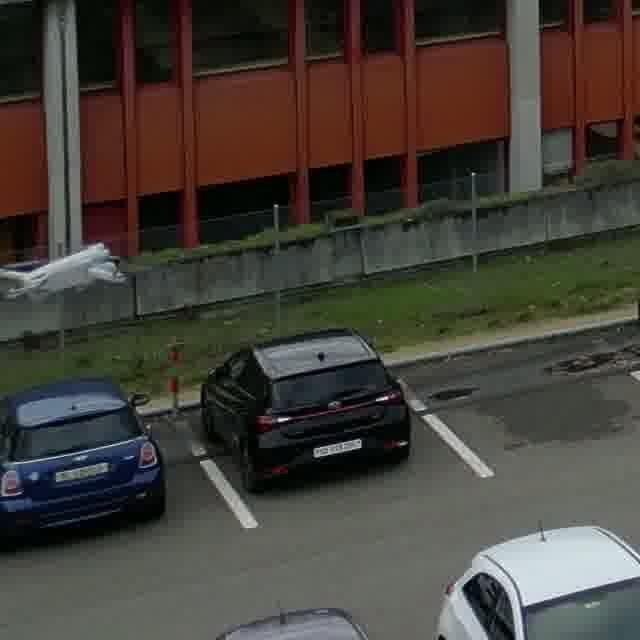Drohne: (0, 243, 125, 300)
